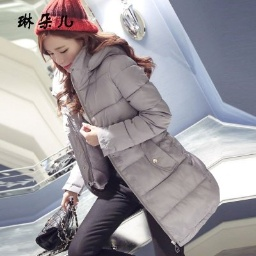face: (34, 24, 147, 79)
